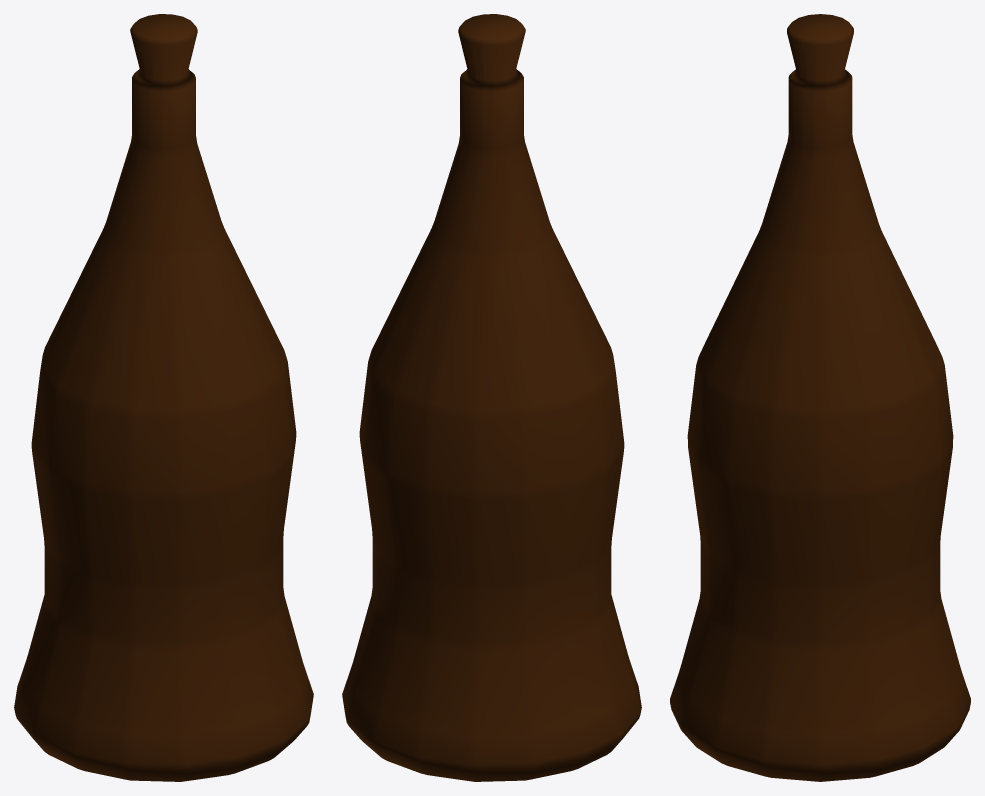
The picture shows the model from 3 angles, left to right: view 1: azimuth 30°, elevation 25°; view 2: azimuth 150°, elevation 25°; view 3: azimuth 270°, elevation 25°; orthographic projection.
Visible parts, largest first — view 1: Bottle; view 2: Bottle; view 3: Bottle.
Boxes of the visible parts, x1,y1,x2,y2 form: Bottle: (14, 14, 313, 781); Bottle: (342, 14, 641, 781); Bottle: (670, 14, 970, 781).
Size of the model in its own units: 0.7788 by 2 by 0.7788.
